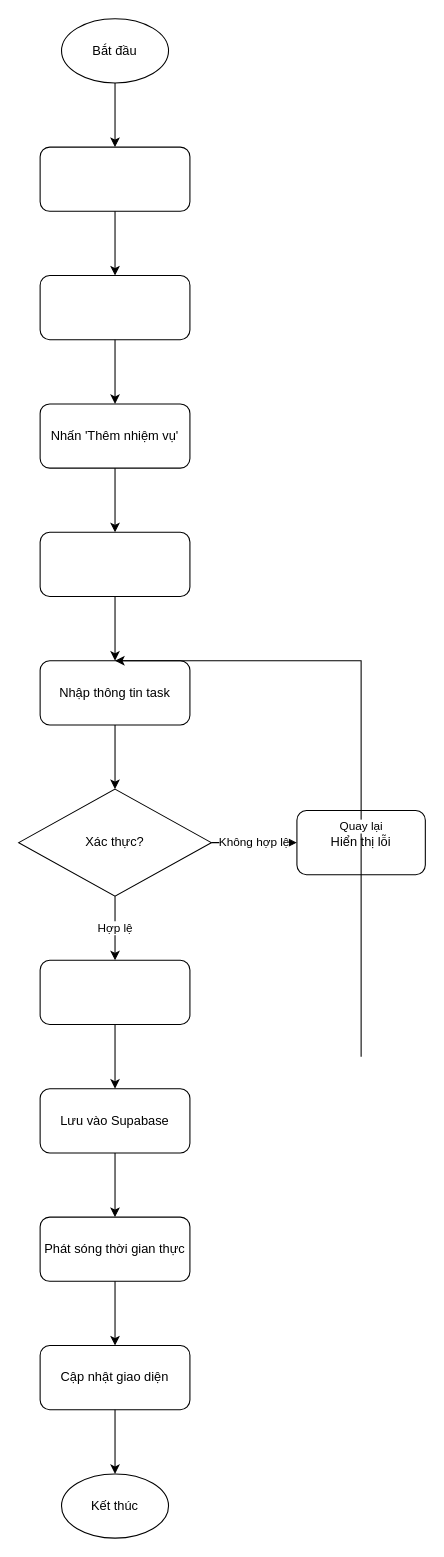
The diagram is 444 pixels wide and 1557 high, and some of its shapes have lost their labels. Each missing label, with the centre of its shape:
"Chọn cột" belongs at (x=114, y=307).
"Gọi Bộ thông báo nhiệm vụ.tạoNhiệmVụ()" belongs at (x=114, y=992).
"Mở Biểu mẫu tạo nhiệm vụ" belongs at (x=114, y=564).
"Mở Board Screen" belongs at (x=114, y=178).
